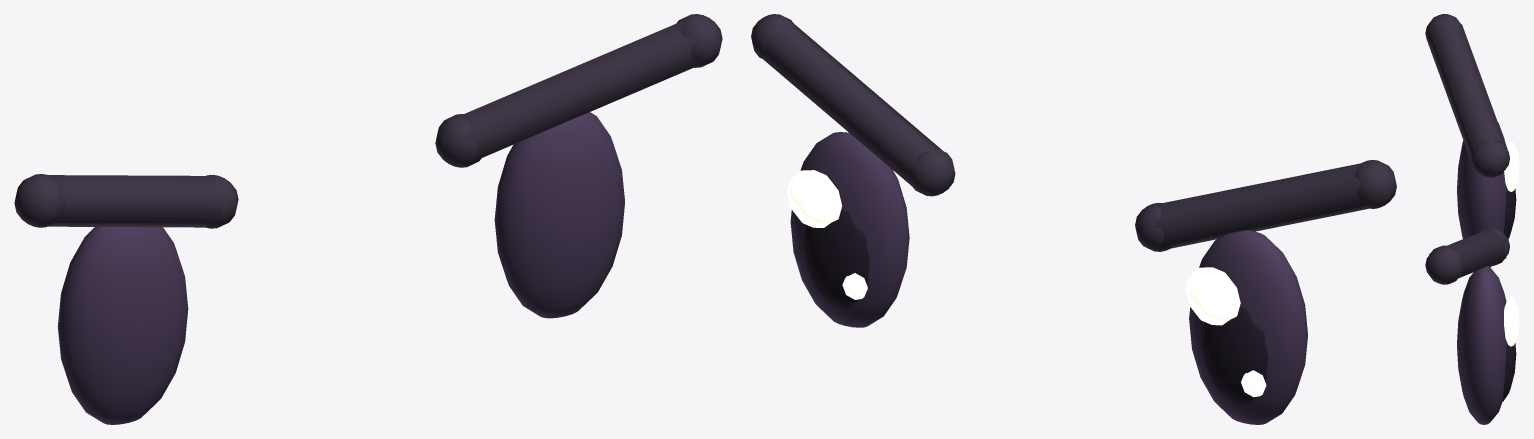
Rendered from Eyes_Sharp.fbx.
The picture shows the model from 3 angles, left to right: view 1: azimuth 30°, elevation 25°; view 2: azimuth 150°, elevation 25°; view 3: azimuth 270°, elevation 25°; orthographic projection. The views are drawn at different scales.
Visible parts, largest first — view 1: Eye.001, Eye, Eye_Lid, Eye_Lid.001, Eye_Lid_Cap.003, Eye_Lid_Cap, Eye_Lid_Cap.001, Eye_Lid_Cap.002; view 2: Eye.001, Eye, Eye_Lid.001, Eye_Lid, Eye_Pupil.001, Eye_Pupil, Eye_Sparkle.002, Eye_Sparkle, Eye_Lid_Cap, Eye_Lid_Cap.003, Eye_Lid_Cap.002, Eye_Lid_Cap.001; view 3: Eye, Eye_Lid.001, Eye.001, Eye_Lid, Eye_Lid_Cap.001, Eye_Lid_Cap.002, Eye_Sparkle, Eye_Sparkle.002, Eye_Pupil, Eye_Pupil.001, Eye_Lid_Cap.003, Eye_Lid_Cap.
Boxes of the visible parts, bbox=[...] form: Eye.001: bbox=[57, 227, 188, 424]; Eye: bbox=[494, 112, 624, 318]; Eye_Lid: bbox=[453, 19, 705, 161]; Eye_Lid.001: bbox=[47, 175, 231, 227]; Eye_Lid_Cap.003: bbox=[14, 174, 65, 227]; Eye_Lid_Cap: bbox=[435, 114, 481, 167]; Eye_Lid_Cap.001: bbox=[676, 14, 722, 67]; Eye_Lid_Cap.002: bbox=[204, 175, 238, 228]; Eye.001: bbox=[1189, 230, 1307, 424]; Eye: bbox=[790, 132, 909, 327]; Eye_Lid.001: bbox=[1150, 162, 1371, 248]; Eye_Lid: bbox=[757, 20, 942, 187]; Eye_Pupil.001: bbox=[1202, 307, 1268, 404]; Eye_Pupil: bbox=[803, 209, 869, 307]; Eye_Sparkle.002: bbox=[1185, 267, 1240, 325]; Eye_Sparkle: bbox=[786, 170, 841, 227]; Eye_Lid_Cap: bbox=[908, 147, 955, 196]; Eye_Lid_Cap.003: bbox=[1354, 160, 1396, 208]; Eye_Lid_Cap.002: bbox=[1135, 202, 1172, 251]; Eye_Lid_Cap.001: bbox=[751, 14, 794, 58]; Eye: bbox=[1457, 266, 1507, 424]; Eye_Lid.001: bbox=[1427, 19, 1507, 167]; Eye.001: bbox=[1457, 122, 1506, 267]; Eye_Lid: bbox=[1429, 227, 1507, 278]; Eye_Lid_Cap.001: bbox=[1425, 245, 1464, 284]; Eye_Lid_Cap.002: bbox=[1471, 140, 1509, 177]; Eye_Sparkle: bbox=[1504, 296, 1519, 346]; Eye_Sparkle.002: bbox=[1504, 141, 1519, 191]; Eye_Pupil: bbox=[1503, 343, 1516, 401]; Eye_Pupil.001: bbox=[1503, 188, 1516, 239]; Eye_Lid_Cap.003: bbox=[1425, 14, 1461, 43]; Eye_Lid_Cap: bbox=[1478, 227, 1509, 265].
Bounding box in the file's own units: 44.85 × 18 × 7.23.
